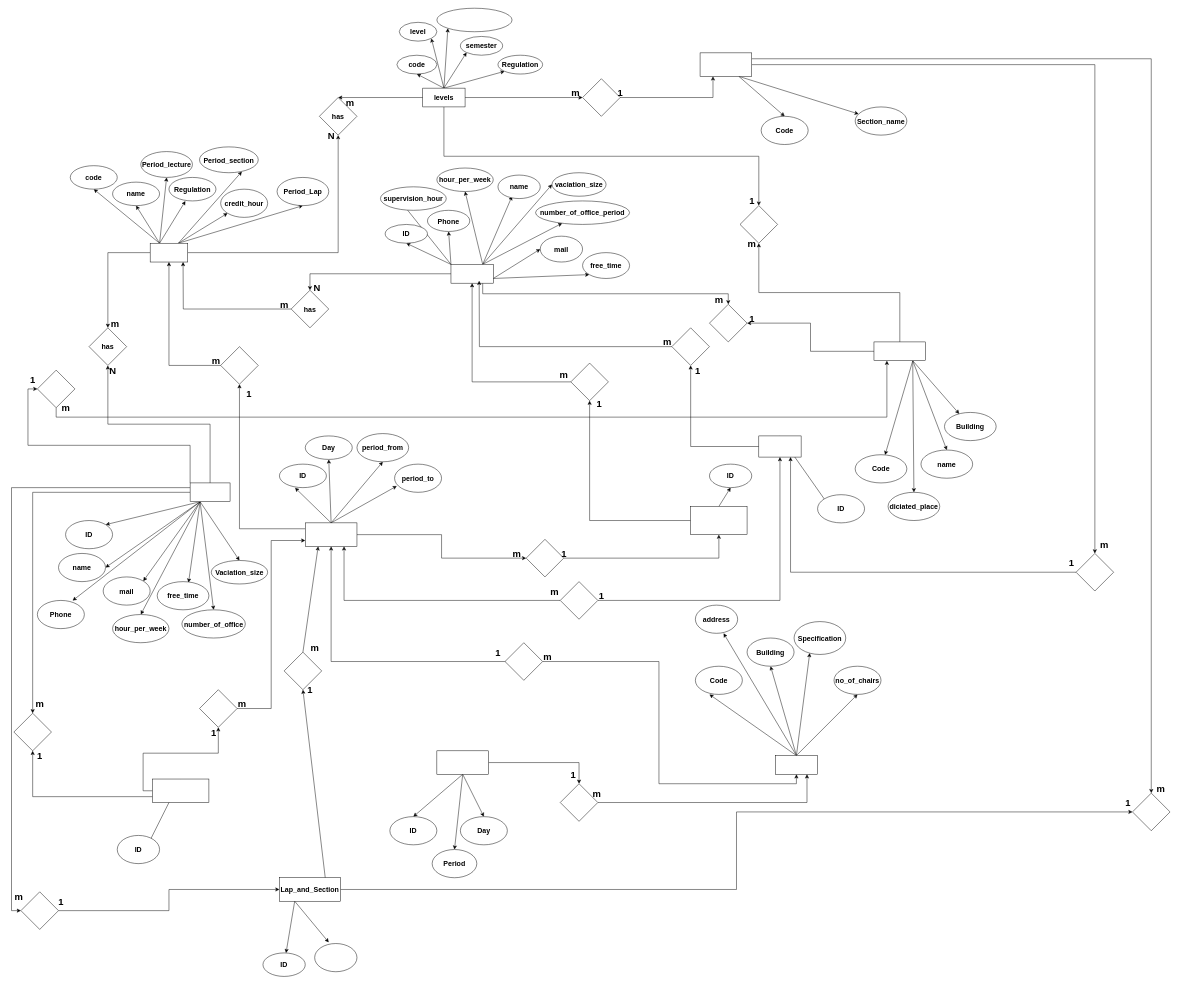
This 1178x985 diagram has some shape labels left out. The centre of each missing label's shape, as x and y in pixels:
Courses: point (169, 252)
Department: point (899, 351)
Engineer: point (210, 492)
Free_Place: point (462, 762)
Lecture: point (779, 446)
Level_Section: point (726, 64)
Load_Engineer: point (180, 791)
Load_Professor: point (718, 520)
Place: point (796, 764)
Professor: point (471, 273)
total_no_of_student: point (474, 20)
Type: point (335, 957)
Work_Place: point (331, 534)
